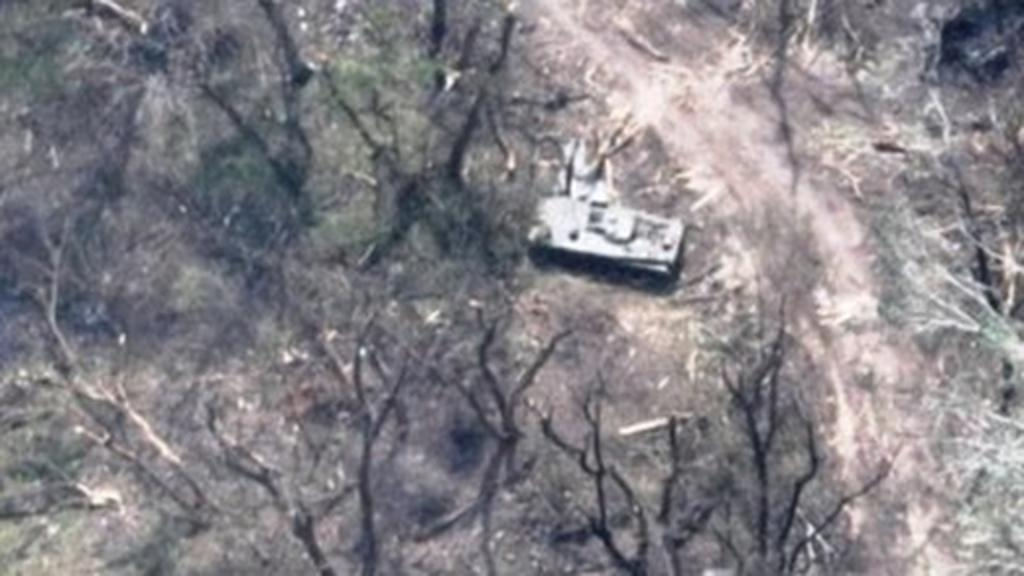APC-IFV: (508, 178, 694, 288)
